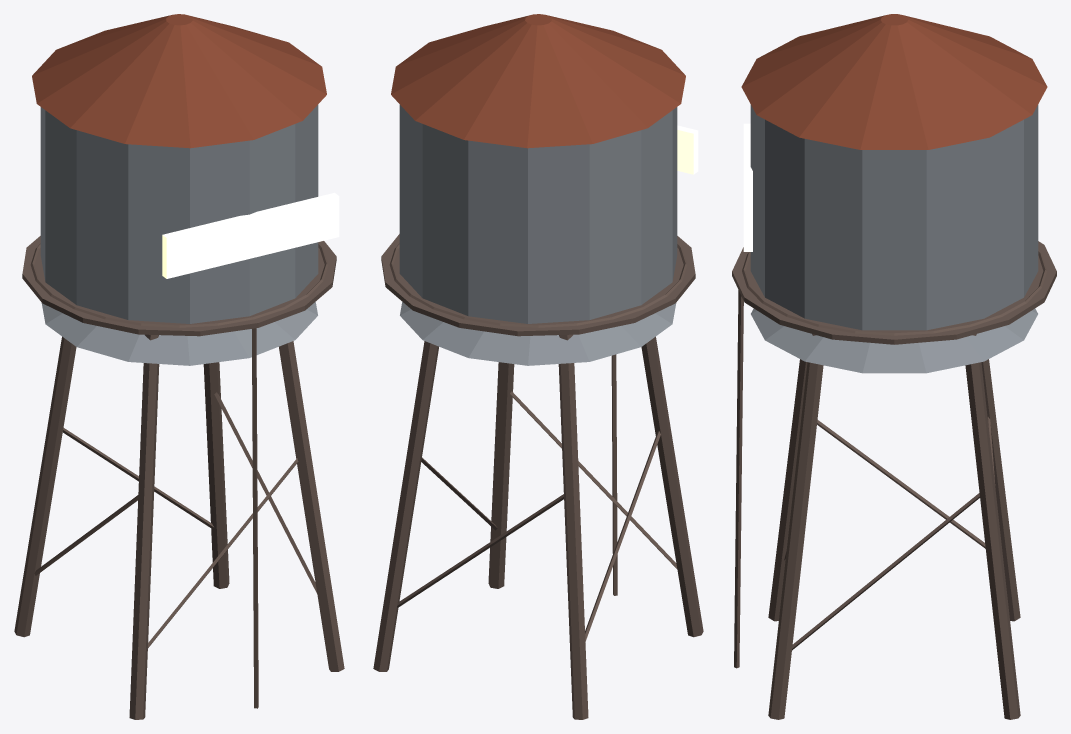
File: water_tower.glb
3 views of the same model, side by side, from view 1: azimuth 30°, elevation 25°; view 2: azimuth 150°, elevation 25°; view 3: azimuth 270°, elevation 25° (orthographic). The views are drawn at different scales.
Parts seen in each view (by area): view 1: water_tower; view 2: water_tower; view 3: water_tower.
Part boxes in pixels (<box>): water_tower: <box>14,14,344,719</box>; water_tower: <box>373,14,703,719</box>; water_tower: <box>732,14,1056,719</box>.
Size of the model in its own units: 7 by 15.43 by 7.
